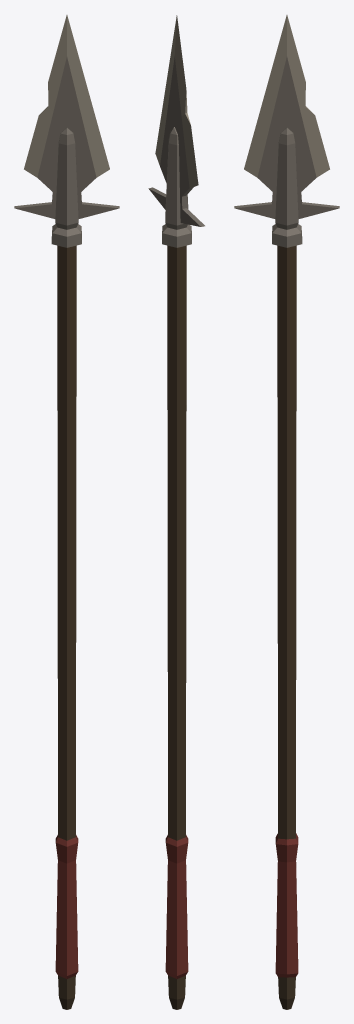
The model's file is kingdom_SM_Prop_Battle_Relic_04.gltf.
3 views of the same model, side by side, from view 1: azimuth 90°, elevation 25°; view 2: azimuth 210°, elevation 25°; view 3: azimuth 270°, elevation 25° (orthographic).
Visible parts, largest first — view 1: SM_Prop_Battle_Relic_04; view 2: SM_Prop_Battle_Relic_04; view 3: SM_Prop_Battle_Relic_04.
Part boxes in pixels (left/top/right/bottom): SM_Prop_Battle_Relic_04: left=14, top=15, right=119, bottom=1009; SM_Prop_Battle_Relic_04: left=148, top=15, right=204, bottom=1009; SM_Prop_Battle_Relic_04: left=234, top=15, right=339, bottom=1009.
Size of the model in its own units: 0.072 by 2.26 by 0.2174.
1 material, 1 textured.
